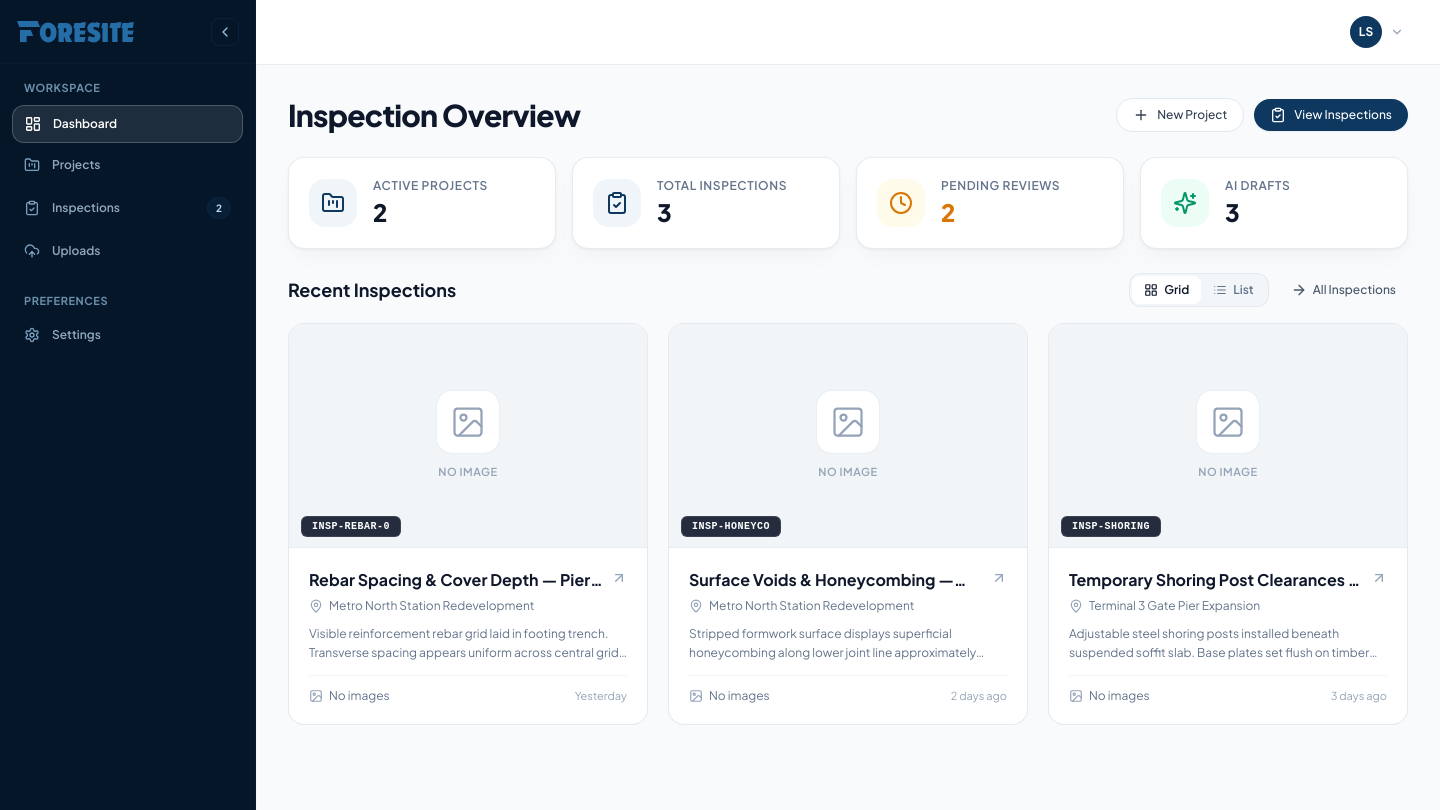
it: ForeSite Application Shell Navigation › navigates to Inspections screen and displays inspection items
Click the button "Inspections 2": (128, 208) [12,186,243,228]
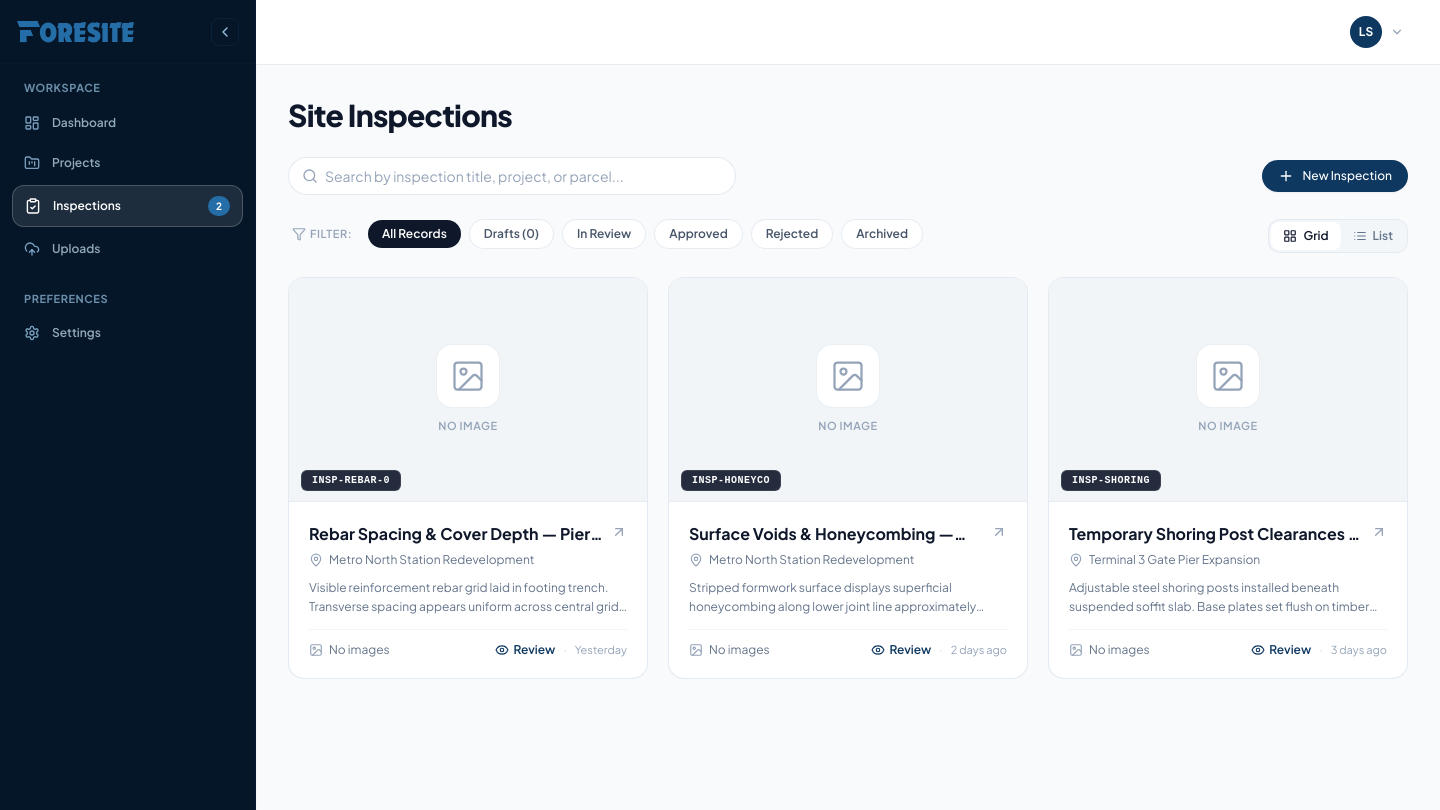
Check: the heading "Rebar Spacing & Cover Depth — Pier Footing 4" is shown, box [309,522,603,546]
Check: the heading "Site Inspections" is shown, box [288,97,512,133]
